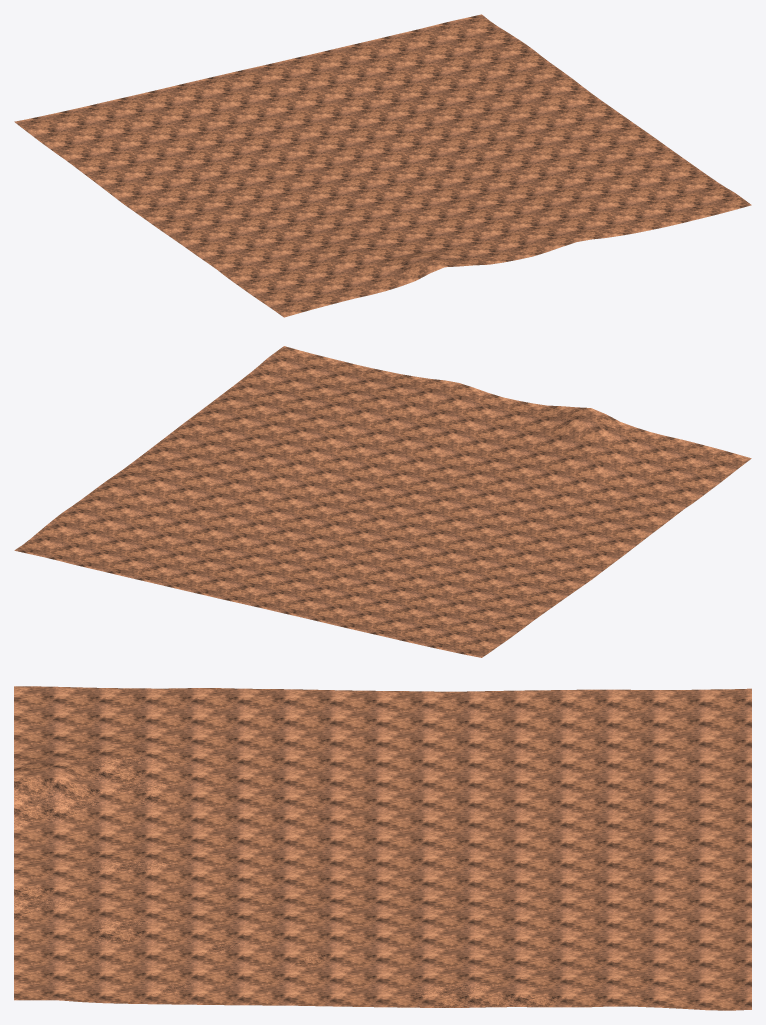
The model's file is terrain_08_03.dae.
The picture shows the model from 3 angles, top to bottom: view 1: azimuth 30°, elevation 25°; view 2: azimuth 150°, elevation 25°; view 3: azimuth 270°, elevation 25°; orthographic projection. The views are drawn at different scales.
Visible parts, largest first — view 1: terrain_08_03-node; view 2: terrain_08_03-node; view 3: terrain_08_03-node.
Boxes of the visible parts, x1,y1,x2,y2 form: terrain_08_03-node: (14, 14, 751, 317); terrain_08_03-node: (14, 346, 751, 657); terrain_08_03-node: (14, 686, 751, 1010).
Bounding box in the file's own units: 128 × 128 × 5.46.
Materials: 1 (1 with a texture image).
